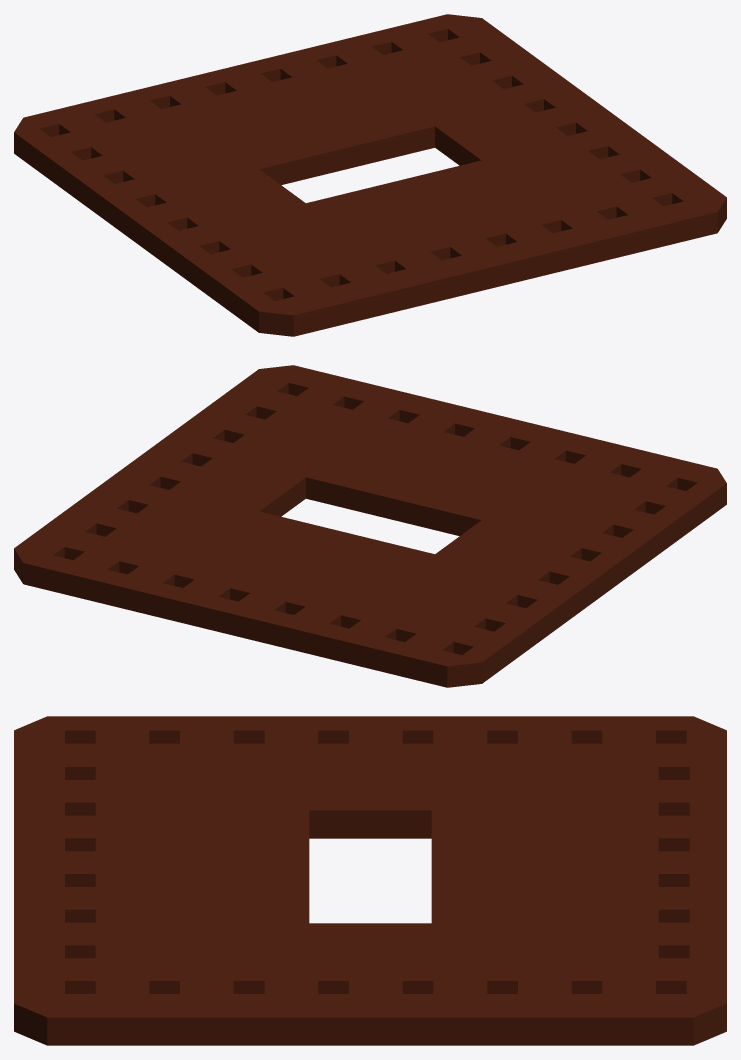
Rendered from PCa_column_template_fix.glb.
3 renders of one model, top to bottom at view 1: azimuth 30°, elevation 25°; view 2: azimuth 150°, elevation 25°; view 3: azimuth 270°, elevation 25°, orthographic. The views are drawn at different scales.
Visible parts, largest first — view 1: Plane.026; view 2: Plane.026; view 3: Plane.026.
Boxes of the visible parts, box(x1,y1,x2,y2) form: Plane.026: box(14, 14, 726, 336); Plane.026: box(14, 365, 726, 687); Plane.026: box(14, 716, 726, 1045).
Size of the model in its own units: 1.16 by 0.0505 by 1.16.
